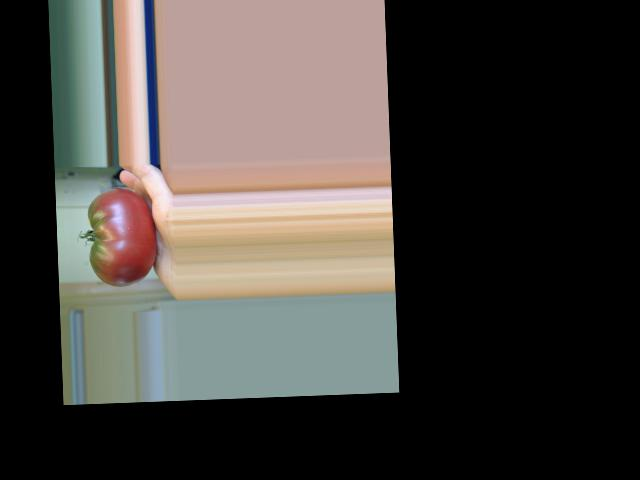tomato: (86, 187, 158, 288)
